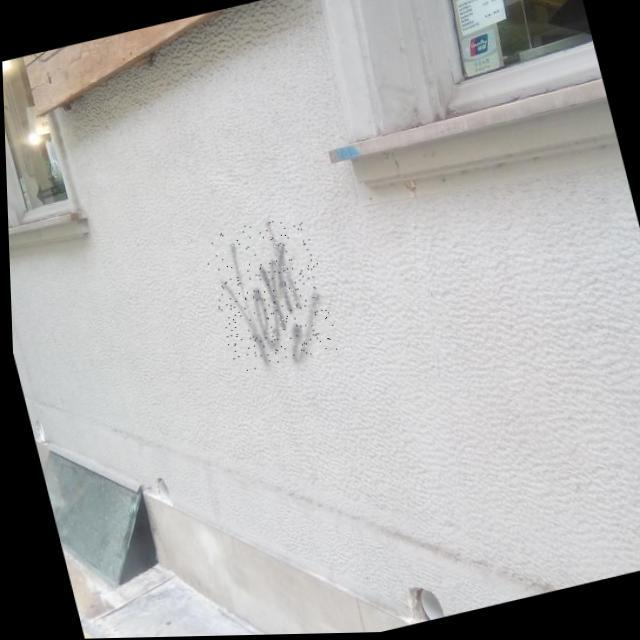-: (198, 212, 336, 374)
